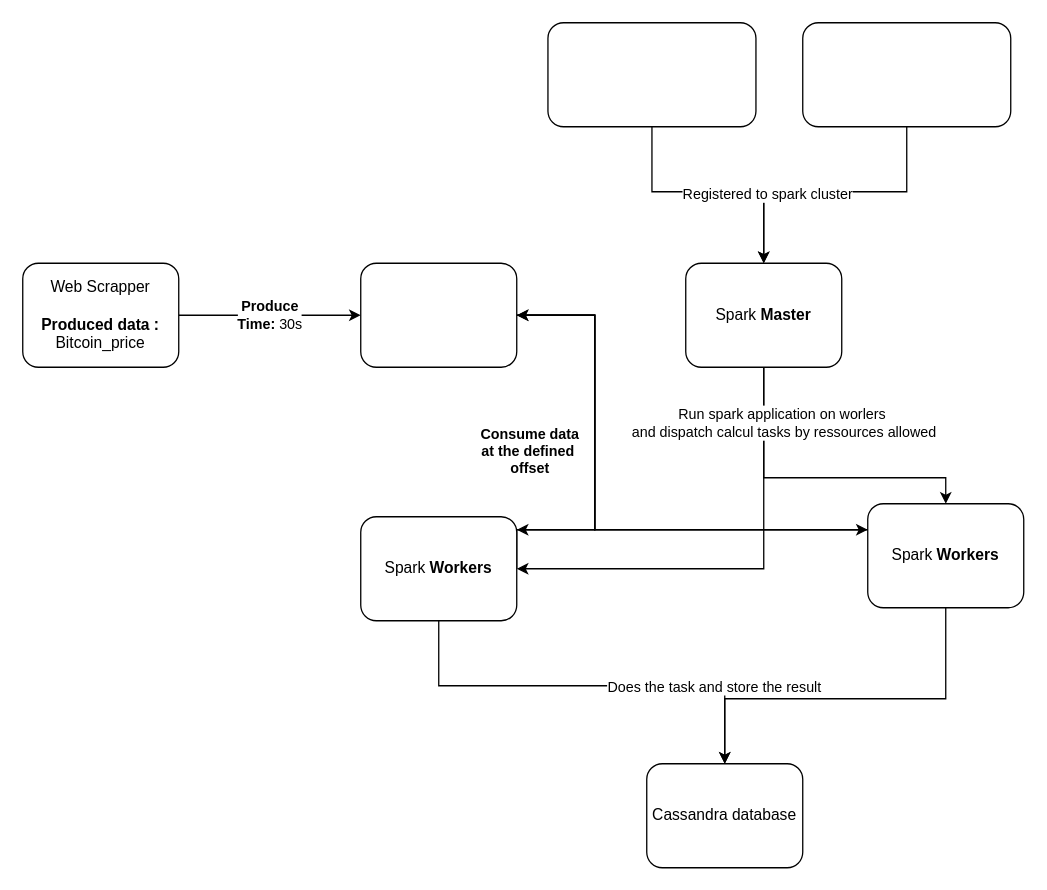
The diagram is 1047 pixels wide and 890 high, and some of its shapes have lost their labels. Each missing label, with the box of its shape:
Kafka Broker Topic : bitcoin_data: (359, 262, 517, 367)
Spark Application bitcoin_price_storage: (547, 21, 756, 127)
Spark Application bitcoin_rate_stats: (801, 21, 1011, 127)
